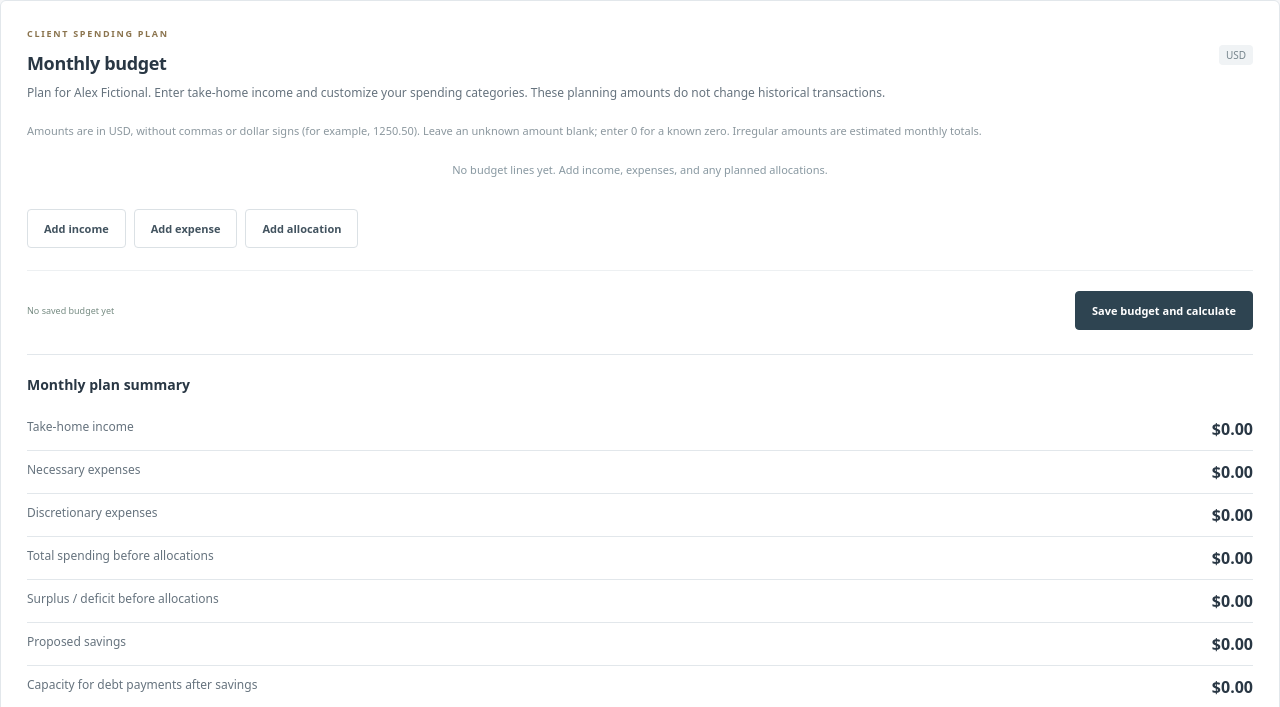
client budget editor › sends exact strings and revisions, uses native totals, and hides stale totals while editing
expect the text "No saved budget yet" is shown: met, box [27,304,114,317]
Click the button "Add income": (76, 228) [27,208,126,248]
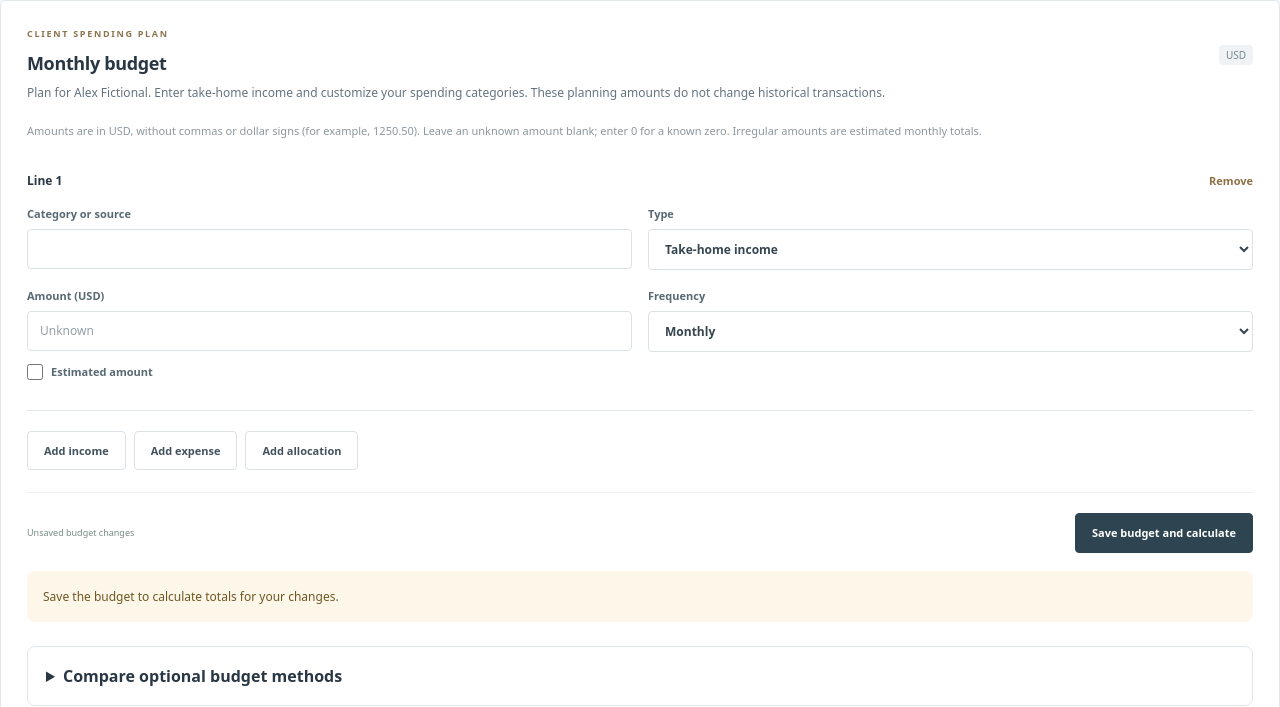
In the field labelled "Category or source": (330, 249) [27,229,632,269], type "Fictional wages"
In the field labelled "Amount (USD)": (330, 331) [27,311,632,351], type "1500"
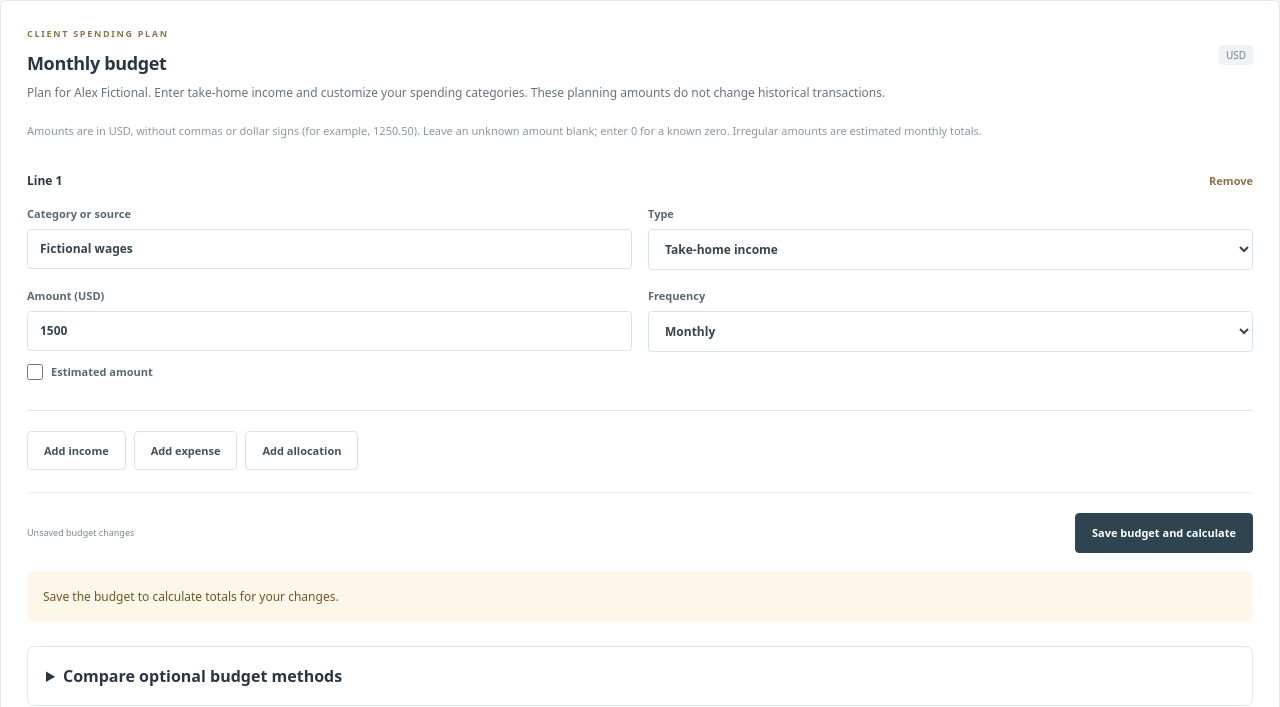
Select "Every two weeks" in the dropdown labelled "Frequency": (950, 331) [648,311,1253,352]
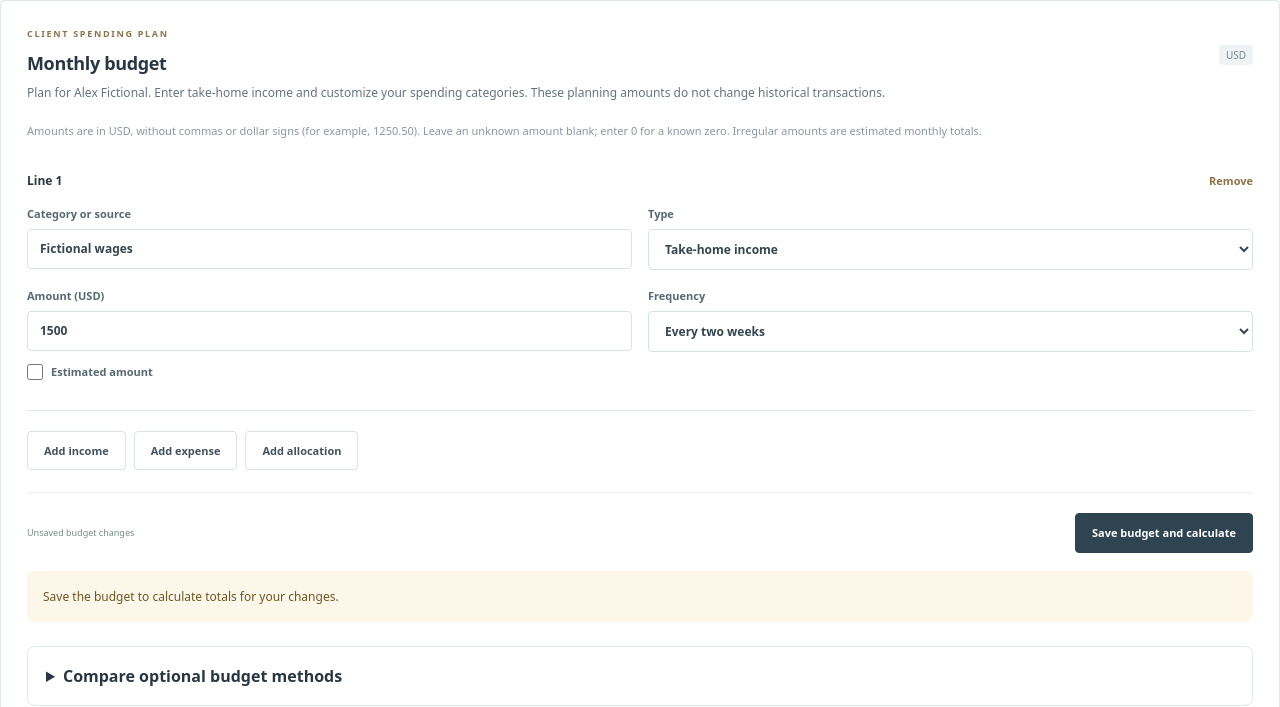
expect the heading "Monthly plan summary" is not shown: met
Click the button "Save budget and calculate": (1164, 533) [1075,513,1253,553]
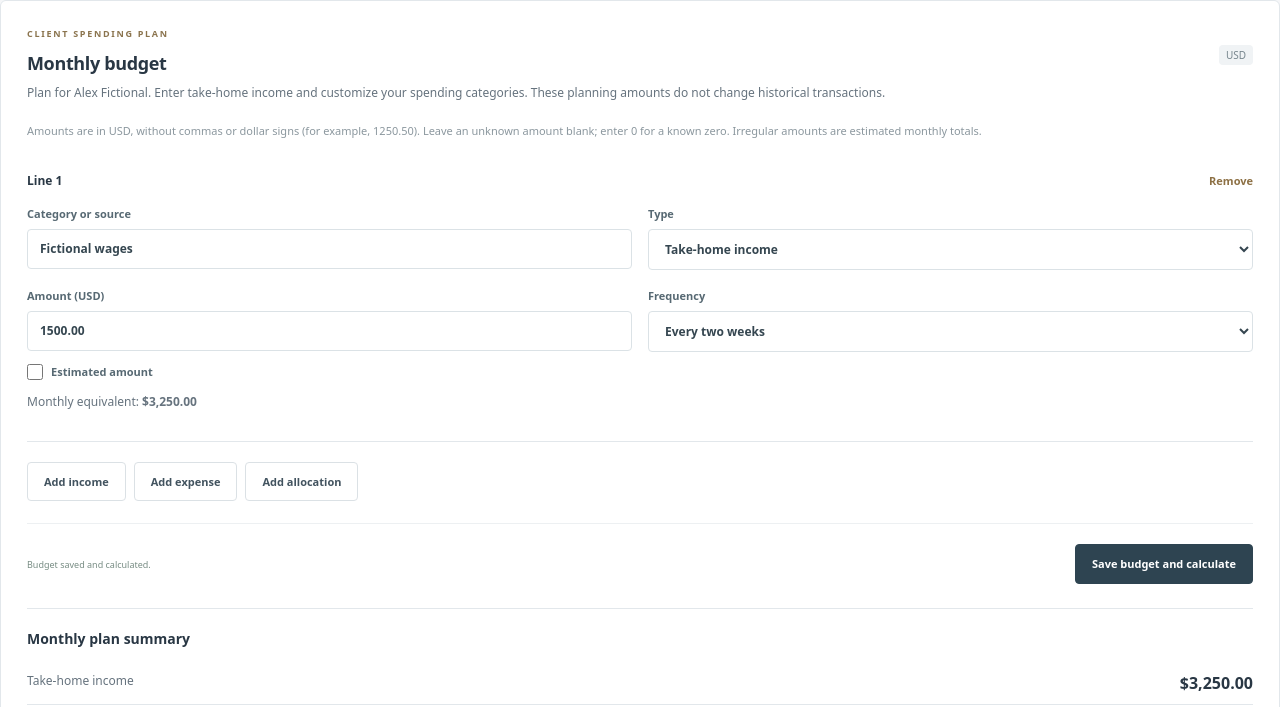
expect the text "Budget saved and calculated." is shown: met, box [27,558,151,571]
expect the field labelled "Amount (USD)" holds "1500.00": met
expect the text "Monthly equivalent:" shows "$3,250.00": met, box [142,393,197,410]
Replace the text in the field labelled "Amount (USD)" with "1200.123": (330, 331) [27,311,632,351]
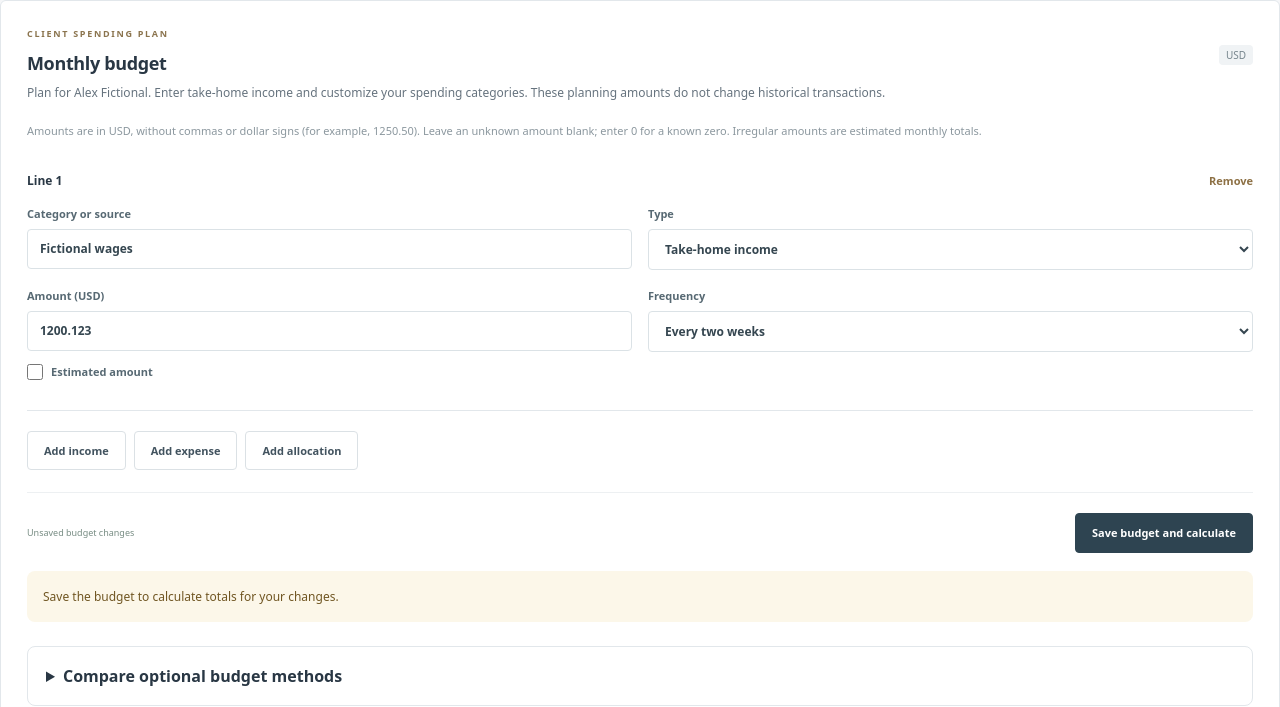
Click the button "Save budget and calculate": (1164, 533) [1075,513,1253,553]
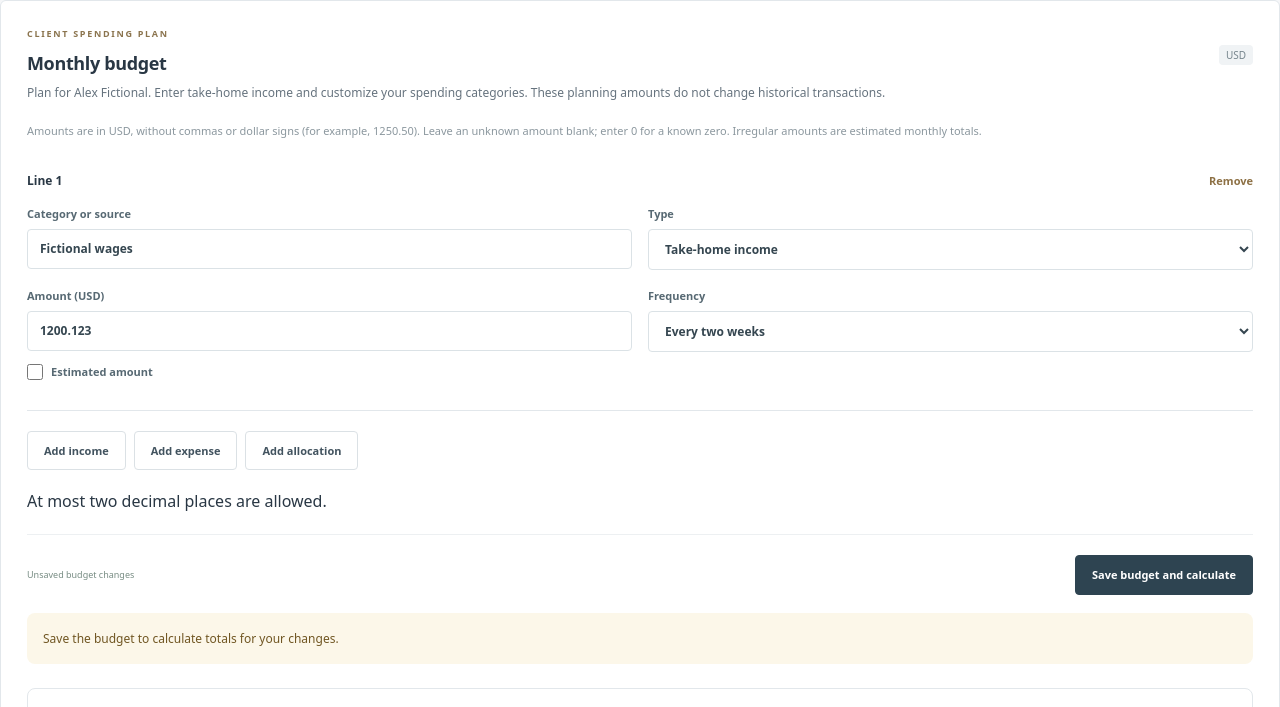
expect the heading "Monthly plan summary" is not shown: met
expect the message "At most two decimal places are allowed." is shown: met, box [27,490,327,512]
